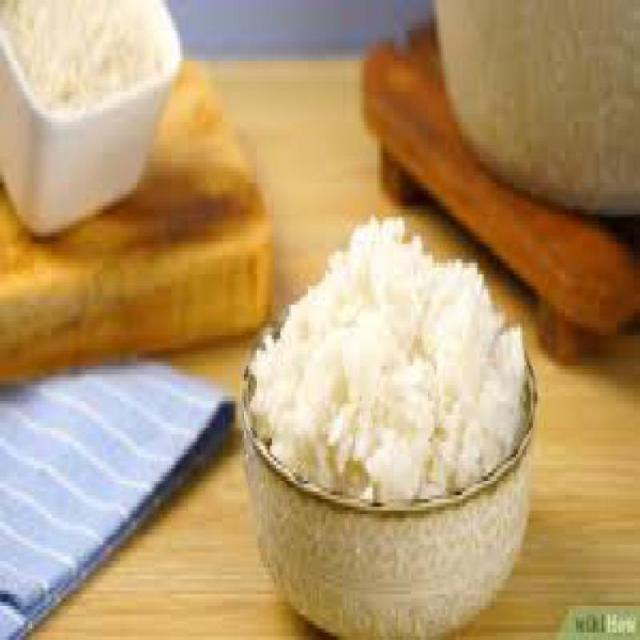nasi_putih: (252, 213, 526, 506)
